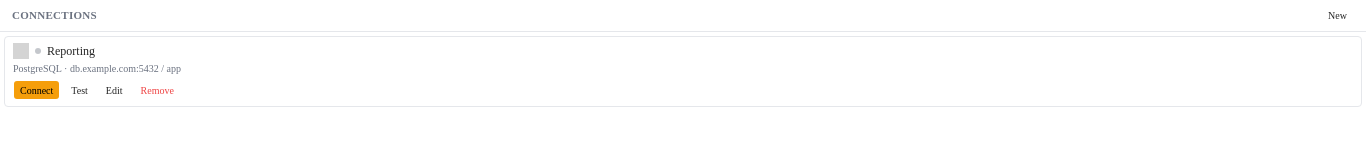
Scenario: ConnectionManager › reports a connection failure in the active-target area
Expected: the text "Reporting" is shown, [47, 44, 95, 58]
What coordinates should you click on to do the following:
click the button with aria-label "Connect Reporting"
I would click on:
 (37, 90)
Its box is [13, 80, 60, 100].
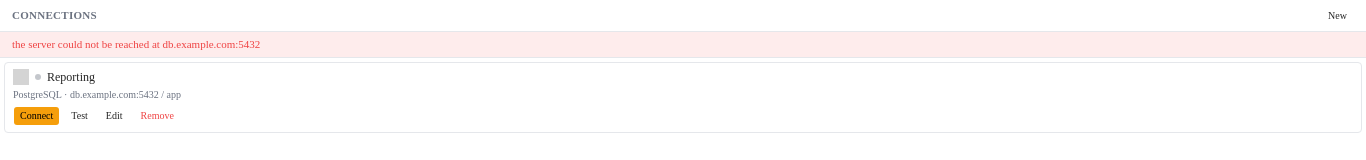
Now the text "the server could not be reached at db.example.com:5432" is shown, box [0, 32, 1365, 58]
